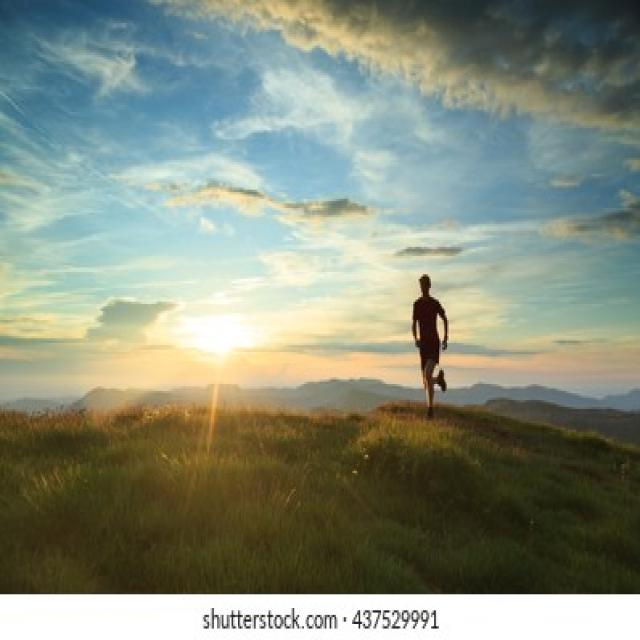running: (408, 272, 452, 415)
